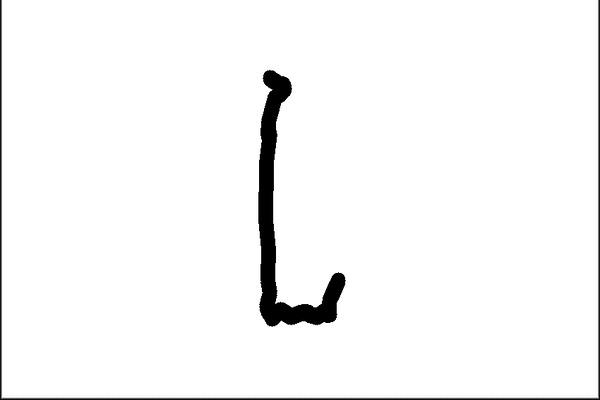L: (246, 63, 354, 335)
